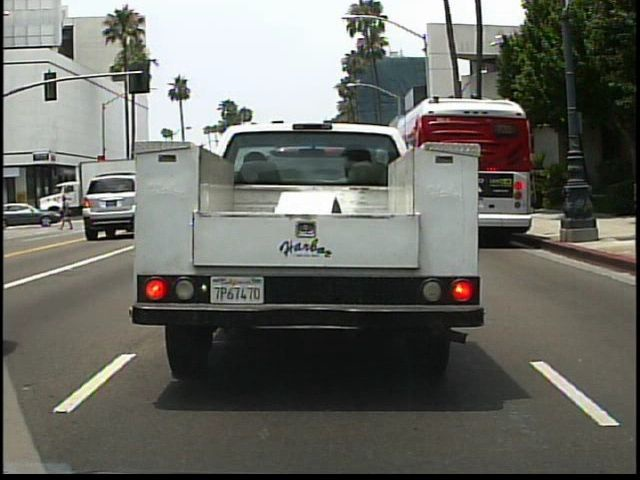person: (56, 190, 77, 234), (18, 196, 38, 231)
